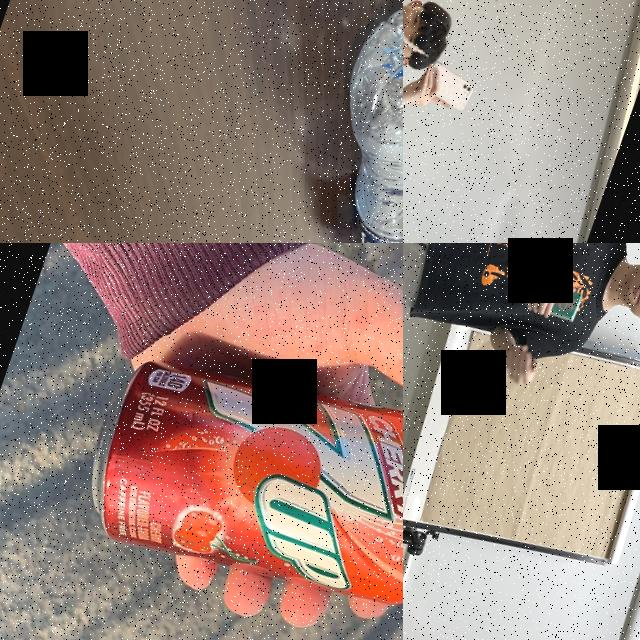bottle: (277, 0, 403, 243)
can: (65, 316, 403, 640)
